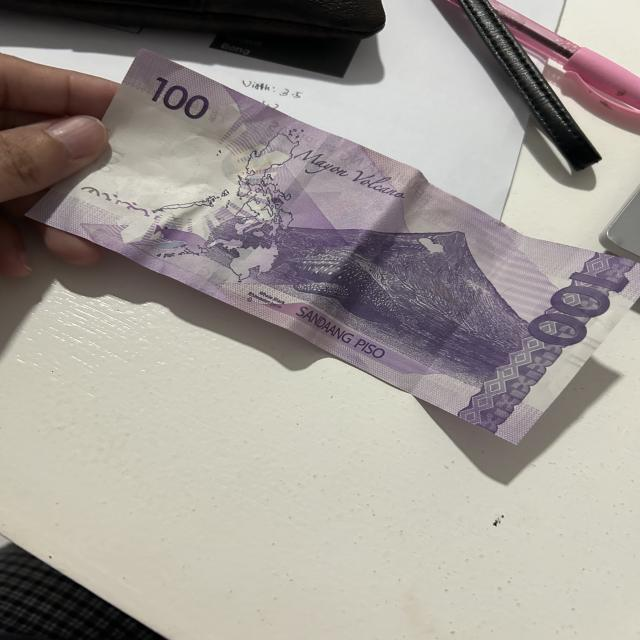100_whale: (271, 250, 403, 327)
100_whale_watermark: (161, 224, 214, 256)
value_watermark: (99, 142, 127, 174)
